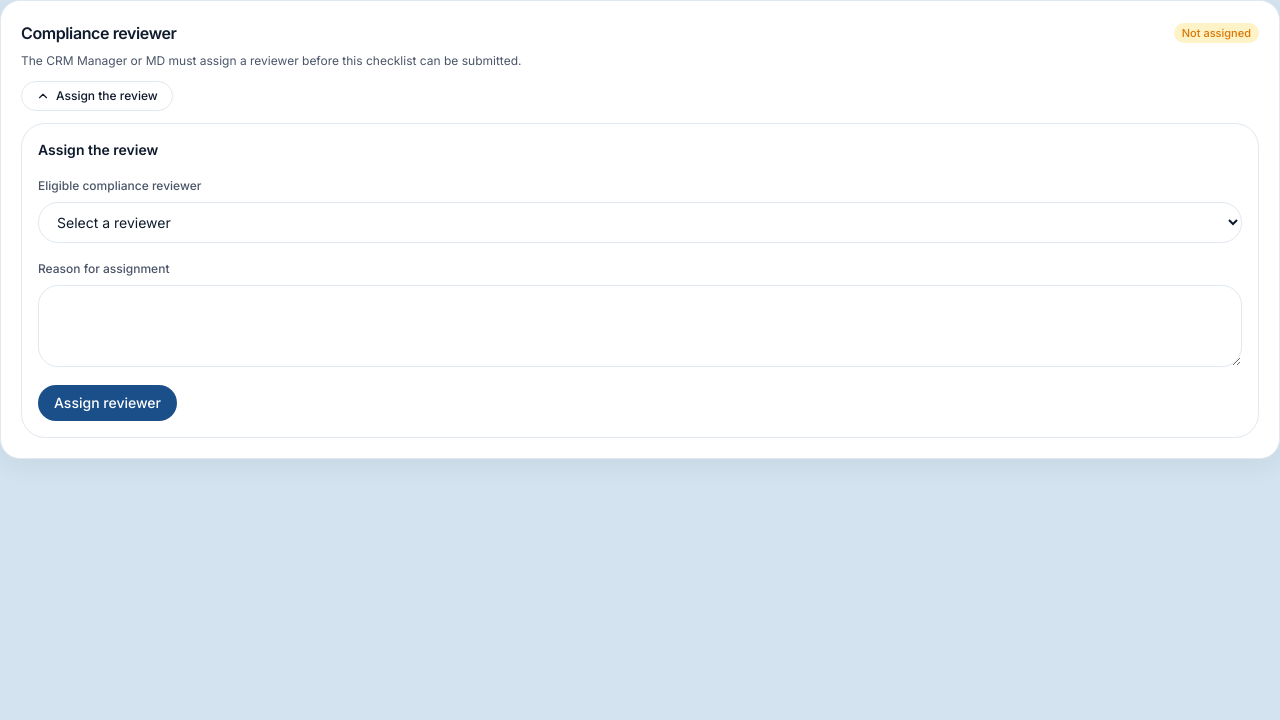
it: KYC disclosures › retains assignment details when post-command refresh fails
This screenshot has width=1280, height=720.
Select "Compliance Test" in the dropdown labelled "Eligible compliance reviewer" at (640, 222), box [38,202,1242,243]
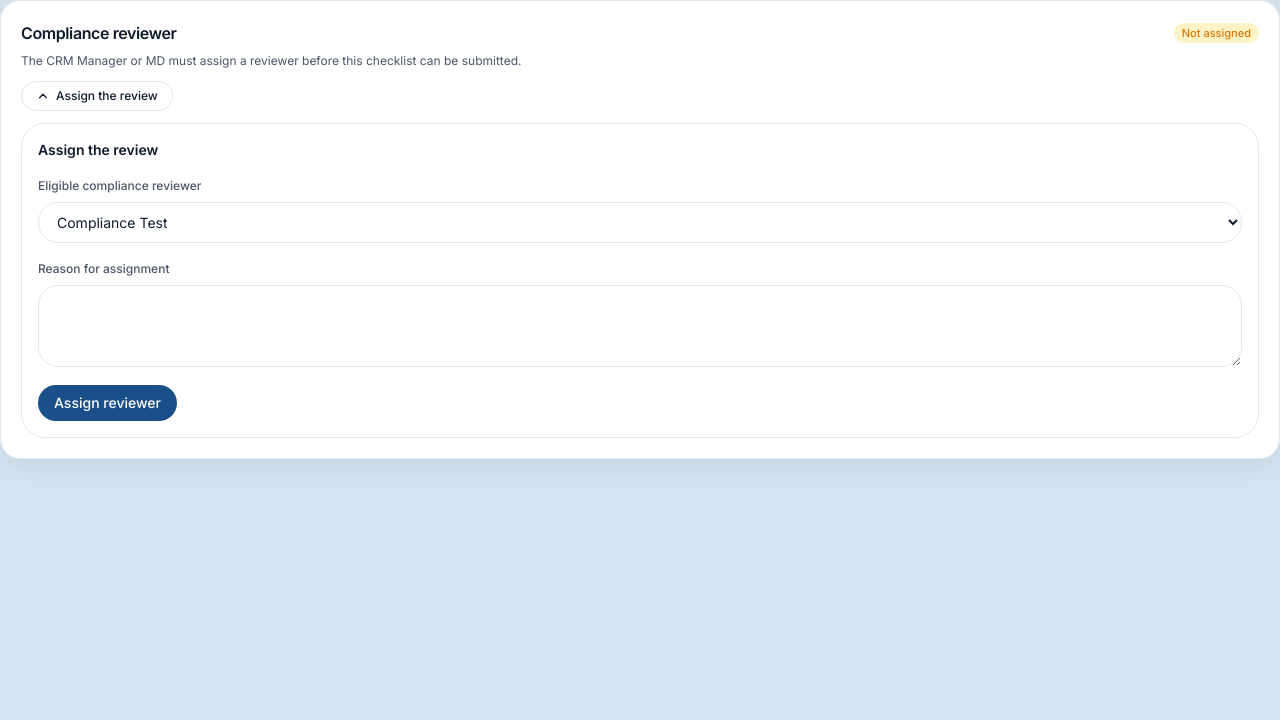
Type "Independent review" into the text box labelled "Reason for assignment" at (640, 326), box [38,285,1242,367]
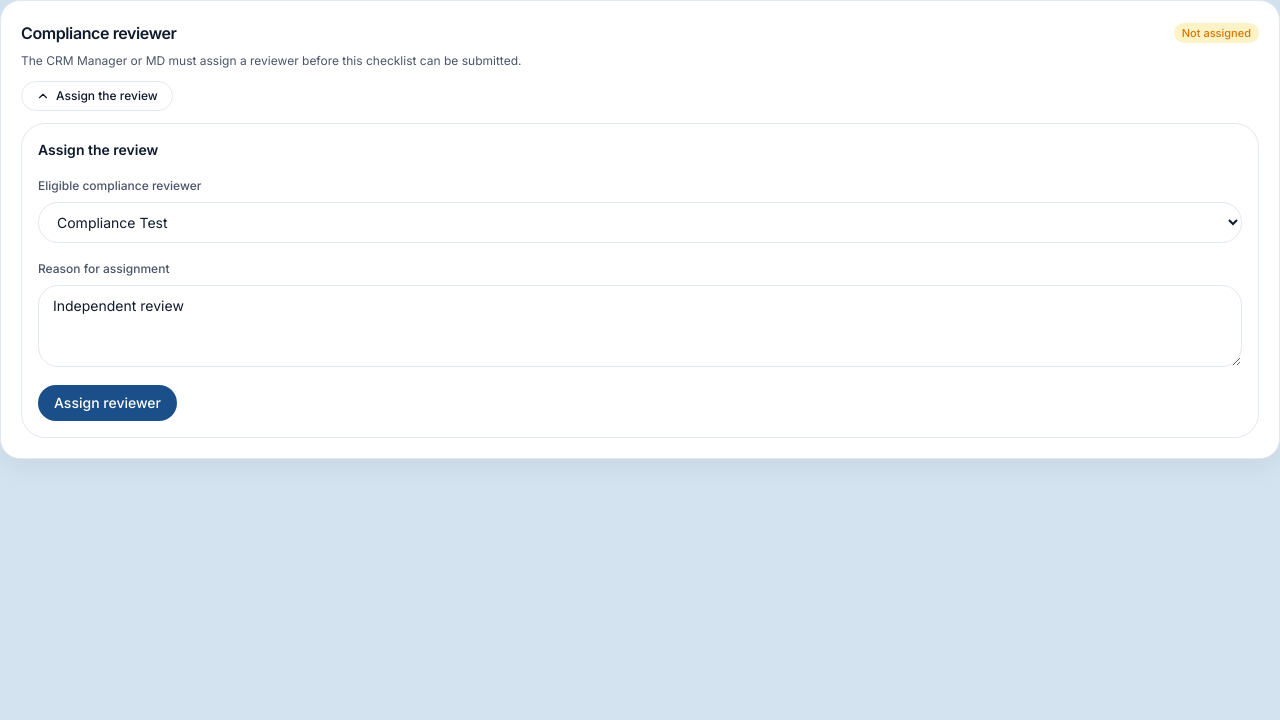
Click the button "Assign reviewer" at (108, 403), box [38,385,177,421]
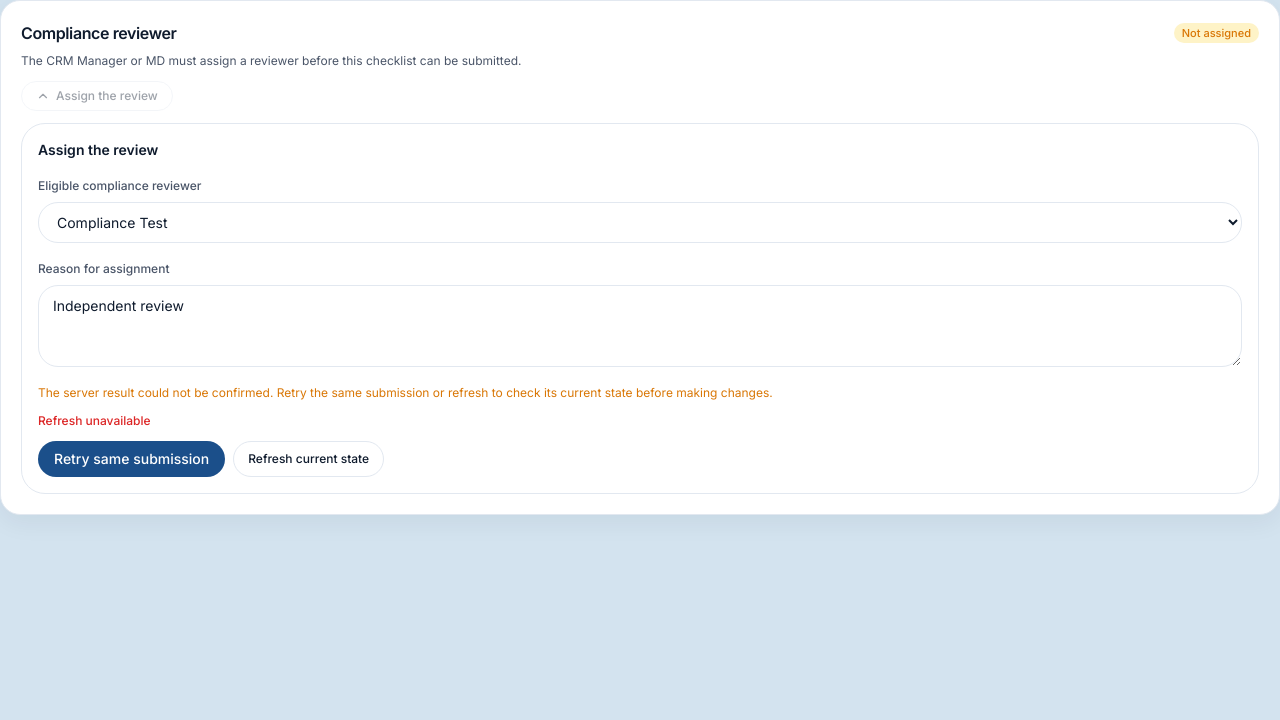
Expected: the button "Retry same submission" is shown, [38,441,225,477]
Expected: the button "Assign the review" is disabled, [21,81,173,111]
